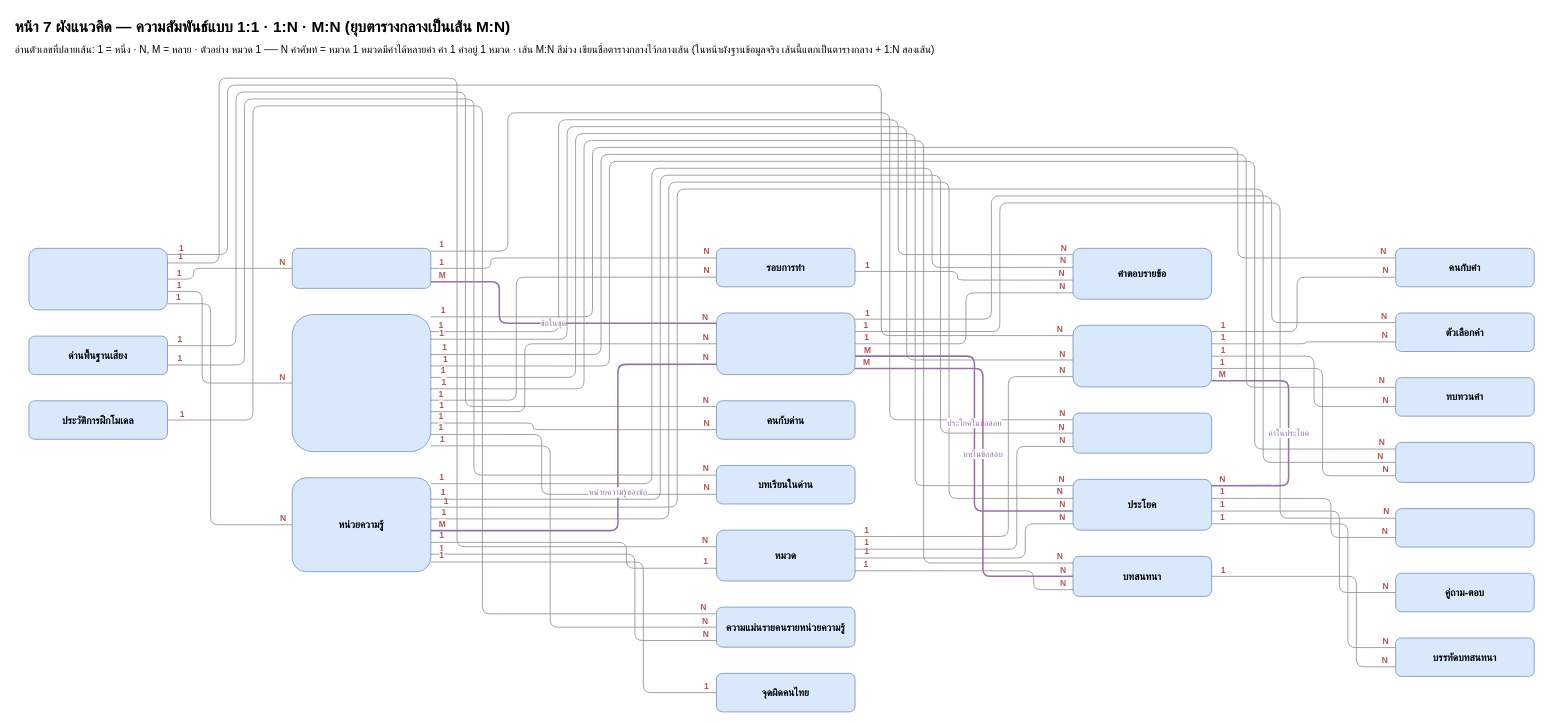
This 1566x725 diagram has some shape labels left out. The centre of each missing label's shape, as x and y in pixels:
"ข้อสอบ" belongs at [785,343].
"คำศัพท์" belongs at [1142,356].
"คู่เสียงใกล้" belongs at [1464,462].
"ชุดข้อสอบ" belongs at [361,268].
"ตัวเลือกประโยค" belongs at [1464,527].
"ผู้ใช้" belongs at [361,383].
"พิมพ์เขียวชุดข้อสอบ" belongs at [1142,432].
"ระดับ" belongs at [97,279].
